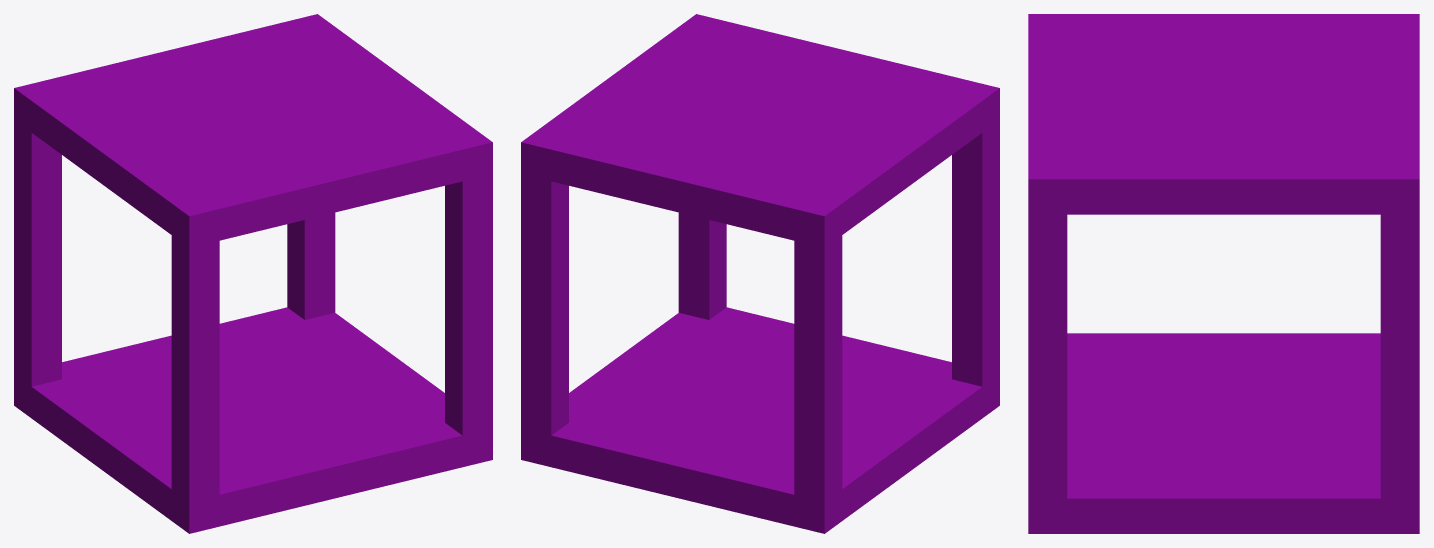
The model's file is flythroughs.003.X.glb.
3 views of the same model, side by side, from view 1: azimuth 30°, elevation 25°; view 2: azimuth 150°, elevation 25°; view 3: azimuth 270°, elevation 25° (orthographic). The views are drawn at different scales.
Parts seen in each view (by area): view 1: Cube-X; view 2: Cube-X; view 3: Cube-X.
Boxes of the visible parts, x1,y1,x2,y2 form: Cube-X: (14,14,492,533); Cube-X: (521,14,999,533); Cube-X: (1028,14,1419,533).
Bounding box in the file's own units: 2 × 2 × 2.
Materials: 1 (1 with a texture image).
